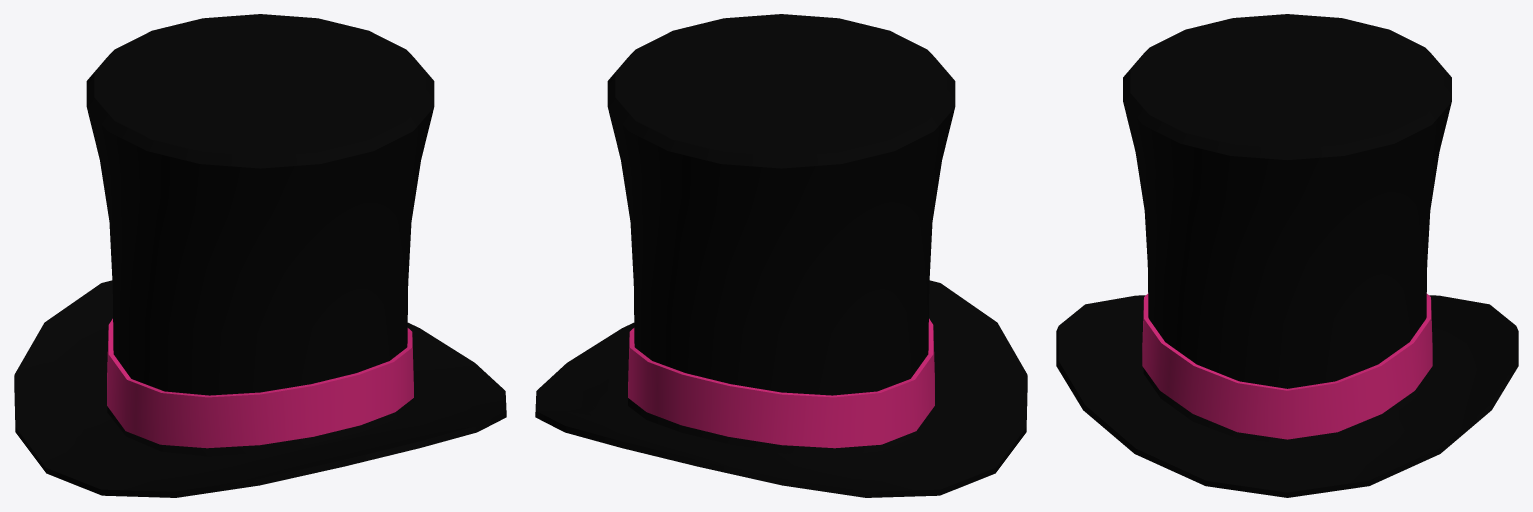
File: Hat.FBX
The picture shows the model from 3 angles, left to right: view 1: azimuth 30°, elevation 25°; view 2: azimuth 150°, elevation 25°; view 3: azimuth 270°, elevation 25°; orthographic projection. The views are drawn at different scales.
Visible parts, largest first — view 1: Hat; view 2: Hat; view 3: Hat.
Part boxes in pixels (x1,y1,x2,y2): Hat: (14,14,506,497); Hat: (535,14,1027,497); Hat: (1056,14,1518,497).
Size of the model in its own units: 50.19 by 37.54 by 49.48.
